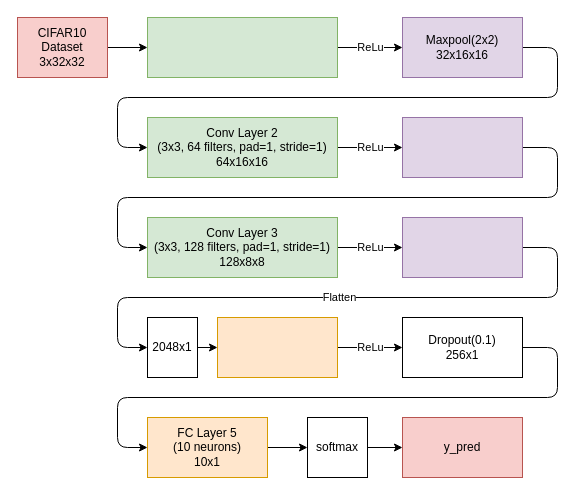
Image size: 583x495. Some labels were removed from this diagram. Here are the shapes that lost their labels. From the top down, the centre of each, then its label:
(242,47): Conv Layer 1 (5x5, 32 filters, pad=2, stride=1) 32x32x32
(462,147): Maxpool(2x2) 64x8x8
(462,247): Maxpool(2x2) 128x4x4
(277,347): FC Layer 4 (256 neurons) 256x1
